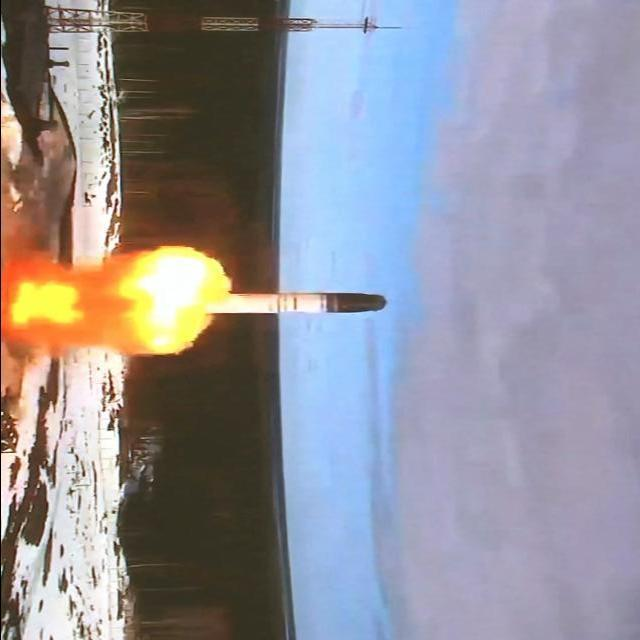Missile: (201, 289, 387, 316)
